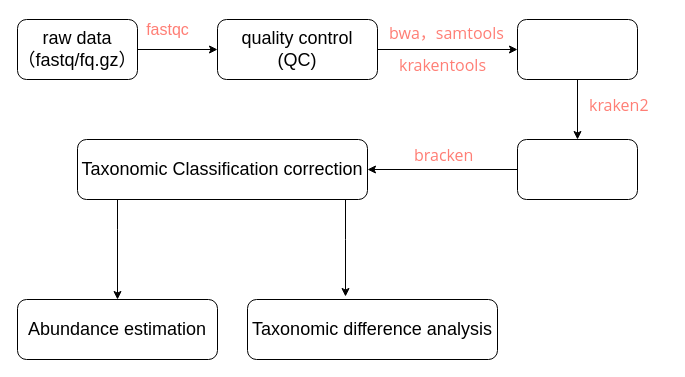
Image size: 685x377. Some labels were removed from this diagram. Each missing label, with the box of its shape:
remove human reads: (516, 18, 638, 80)
Taxonomic Classification: (516, 138, 638, 200)
